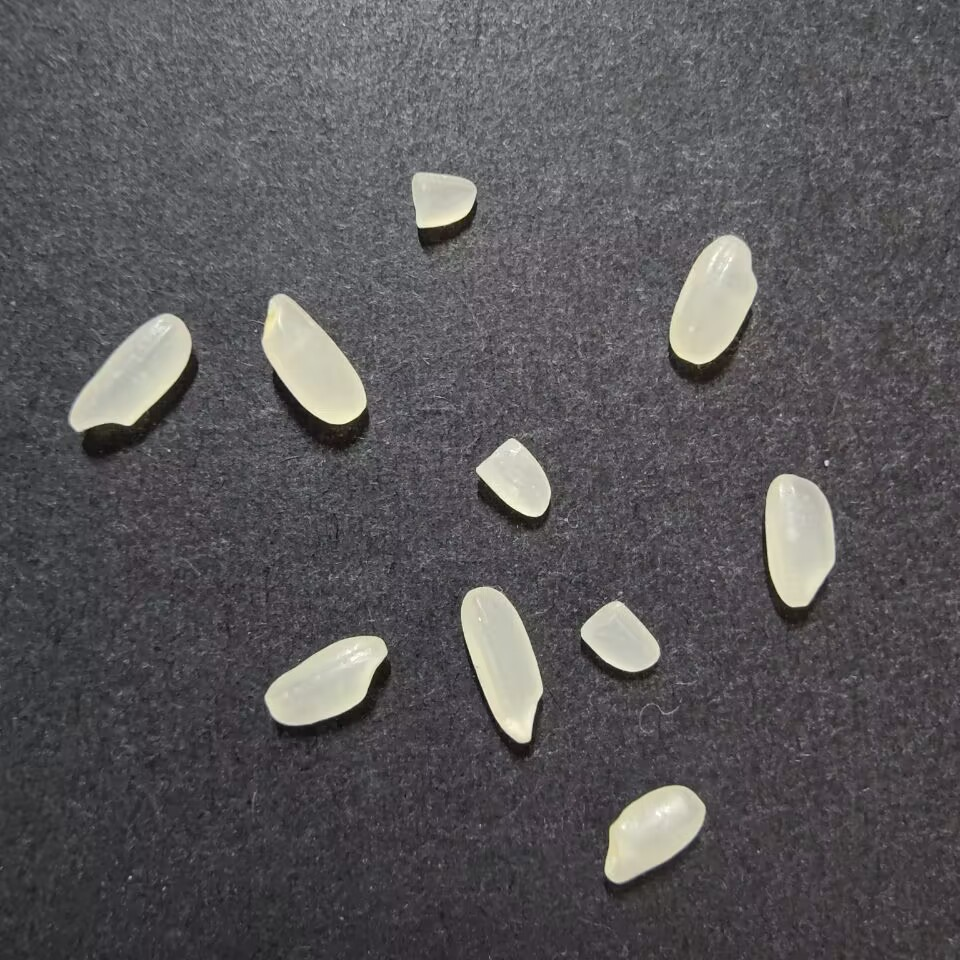broken: (474, 437, 551, 517), (579, 600, 660, 672), (410, 171, 477, 229)
rice: (68, 313, 191, 432), (261, 293, 366, 424), (460, 586, 544, 743), (668, 234, 757, 364), (264, 635, 387, 726), (603, 783, 706, 884), (764, 473, 836, 607)
